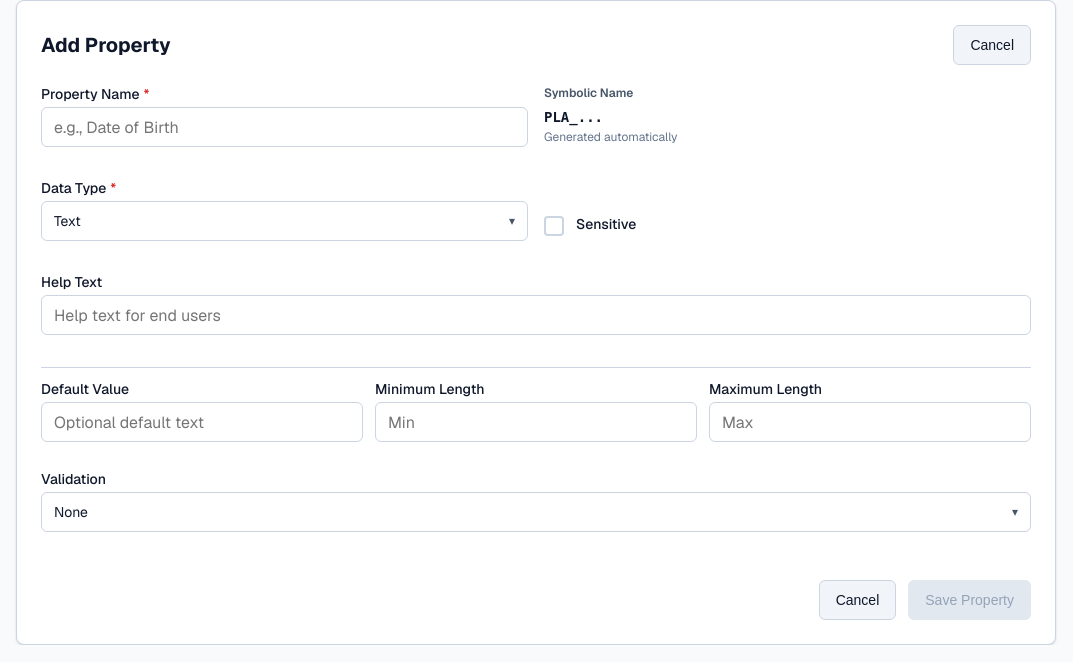
Test: INC-03C7 Studio UI Components & Final Data Tab Test Suite › 3. UnifiedPropertyEditor Component & Final Property Identity Rules › auto-derives symbolic name PLA_FIRST_NAME from 'First Name' and handles punctuation normalization
Type "First Name!" into the field labelled "Property Name*" at (284, 127), box [41,107,528,147]
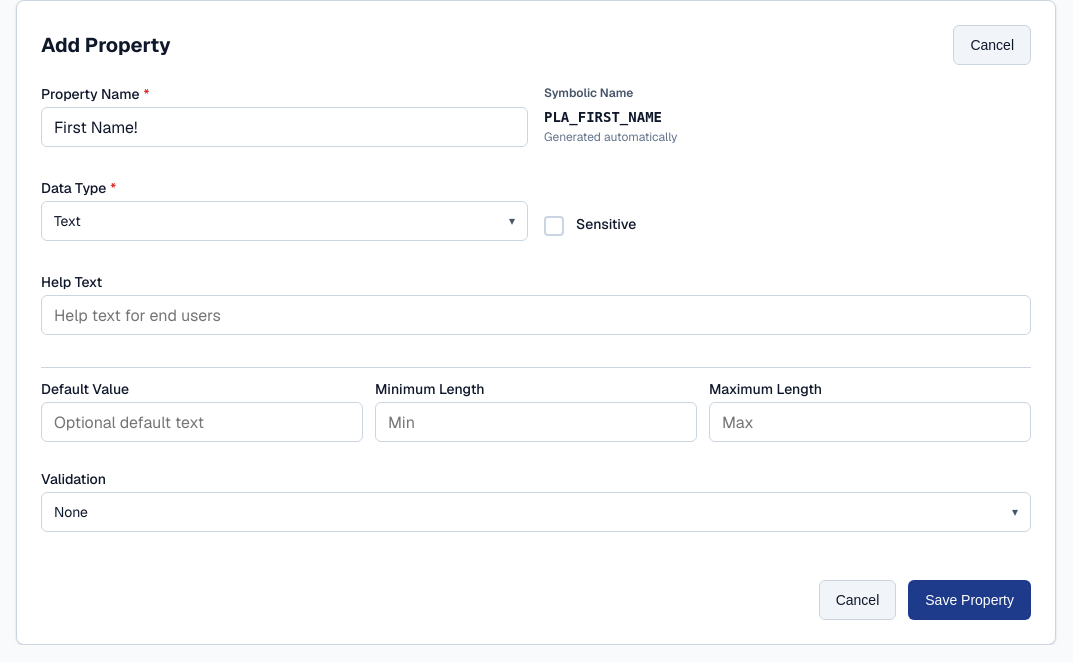
Now the text "PLA_FIRST_NAME" is shown, box [544,109,662,125]
